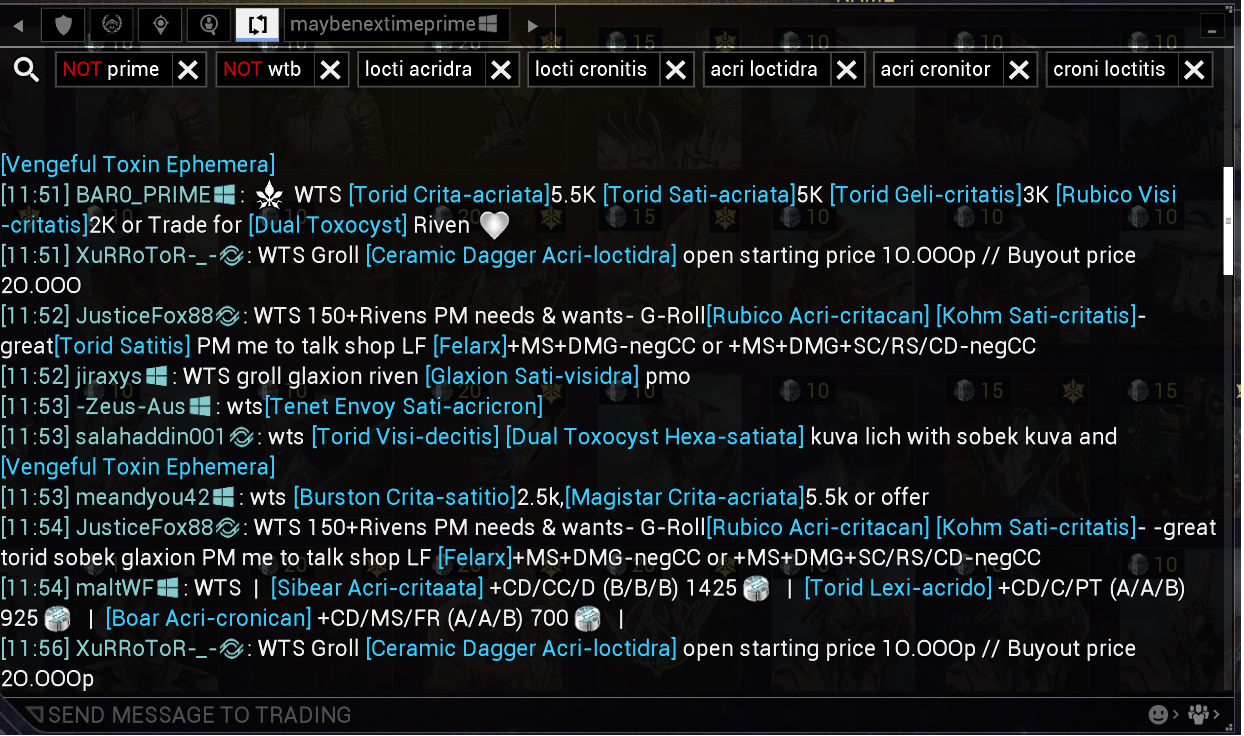link: (365, 241, 679, 273), (364, 634, 679, 664), (505, 423, 807, 450), (261, 392, 551, 419), (105, 603, 313, 639), (564, 482, 805, 513), (293, 482, 518, 514), (701, 301, 933, 332), (705, 513, 930, 544), (828, 179, 1023, 214), (309, 421, 501, 456), (269, 574, 487, 604), (347, 179, 551, 210), (422, 362, 641, 390), (934, 515, 1139, 544), (937, 302, 1139, 331), (602, 180, 797, 210), (805, 574, 995, 603), (1054, 179, 1184, 211), (51, 333, 195, 358), (1, 212, 90, 241)
